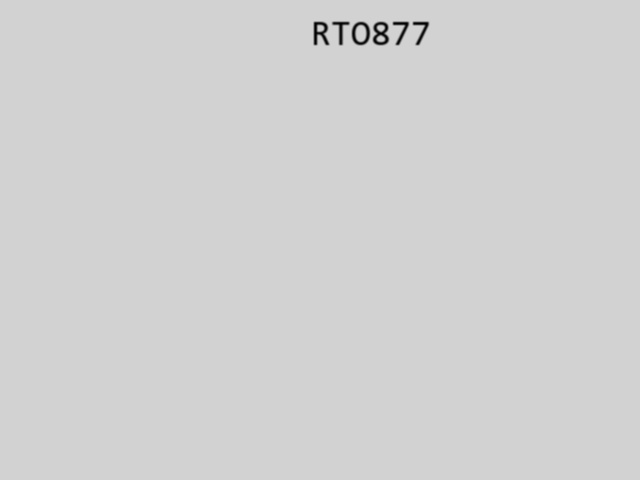OCR_AREA: (307, 18, 435, 49)
